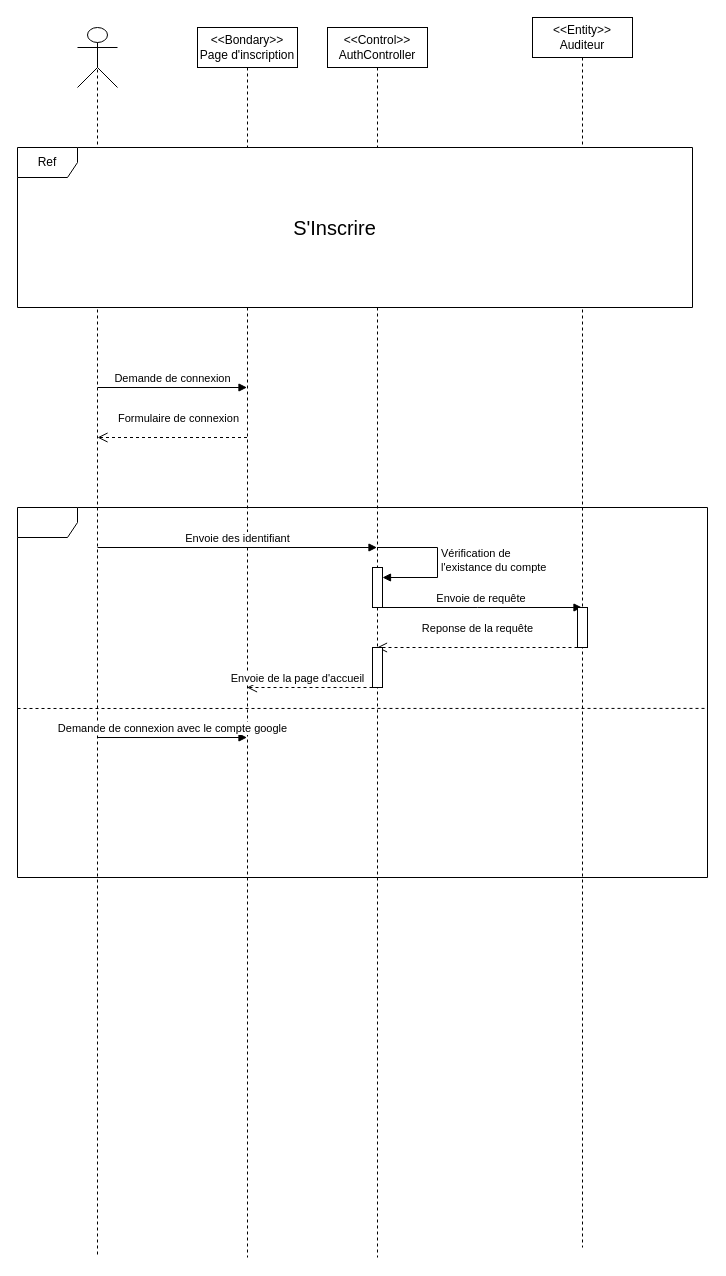
The diagram is 726 pixels wide and 1276 high, and some of its shapes have lost their labels. The centre of each missing label's shape, as x and y in pixels:
"Alt" belongs at (362,692).
"Auditeur" belongs at (97,57).
